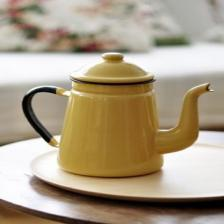yellow: (22, 53, 211, 177)
